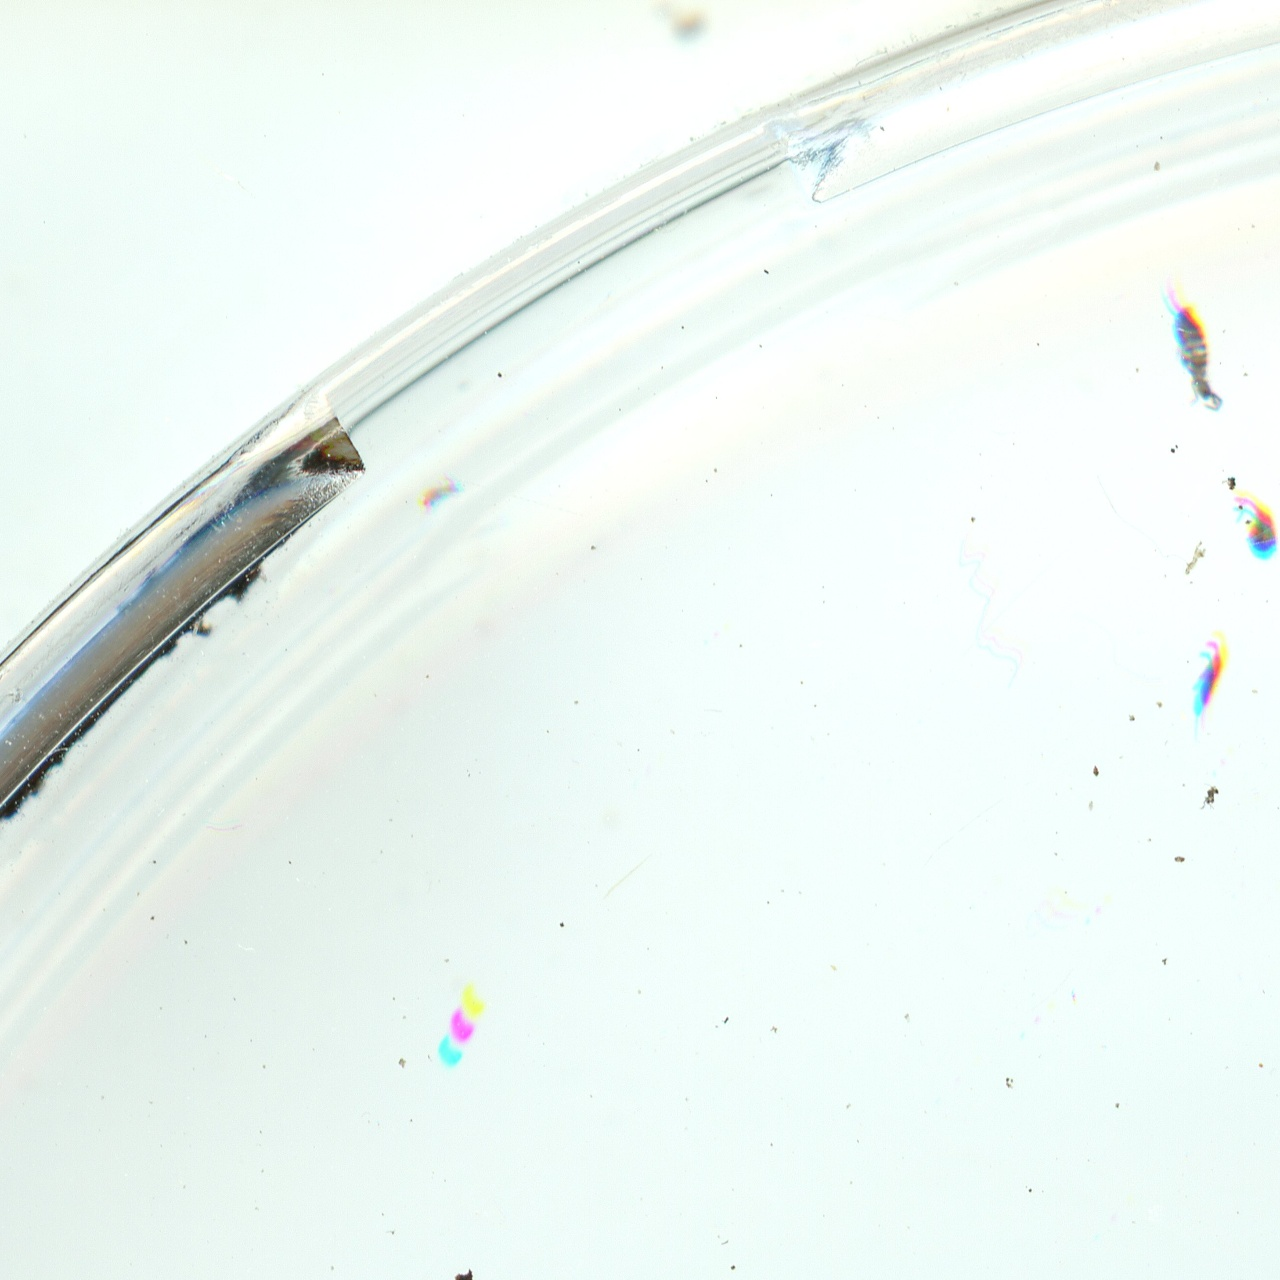arthropod: (1138, 275, 1240, 424), (1172, 624, 1239, 749)
